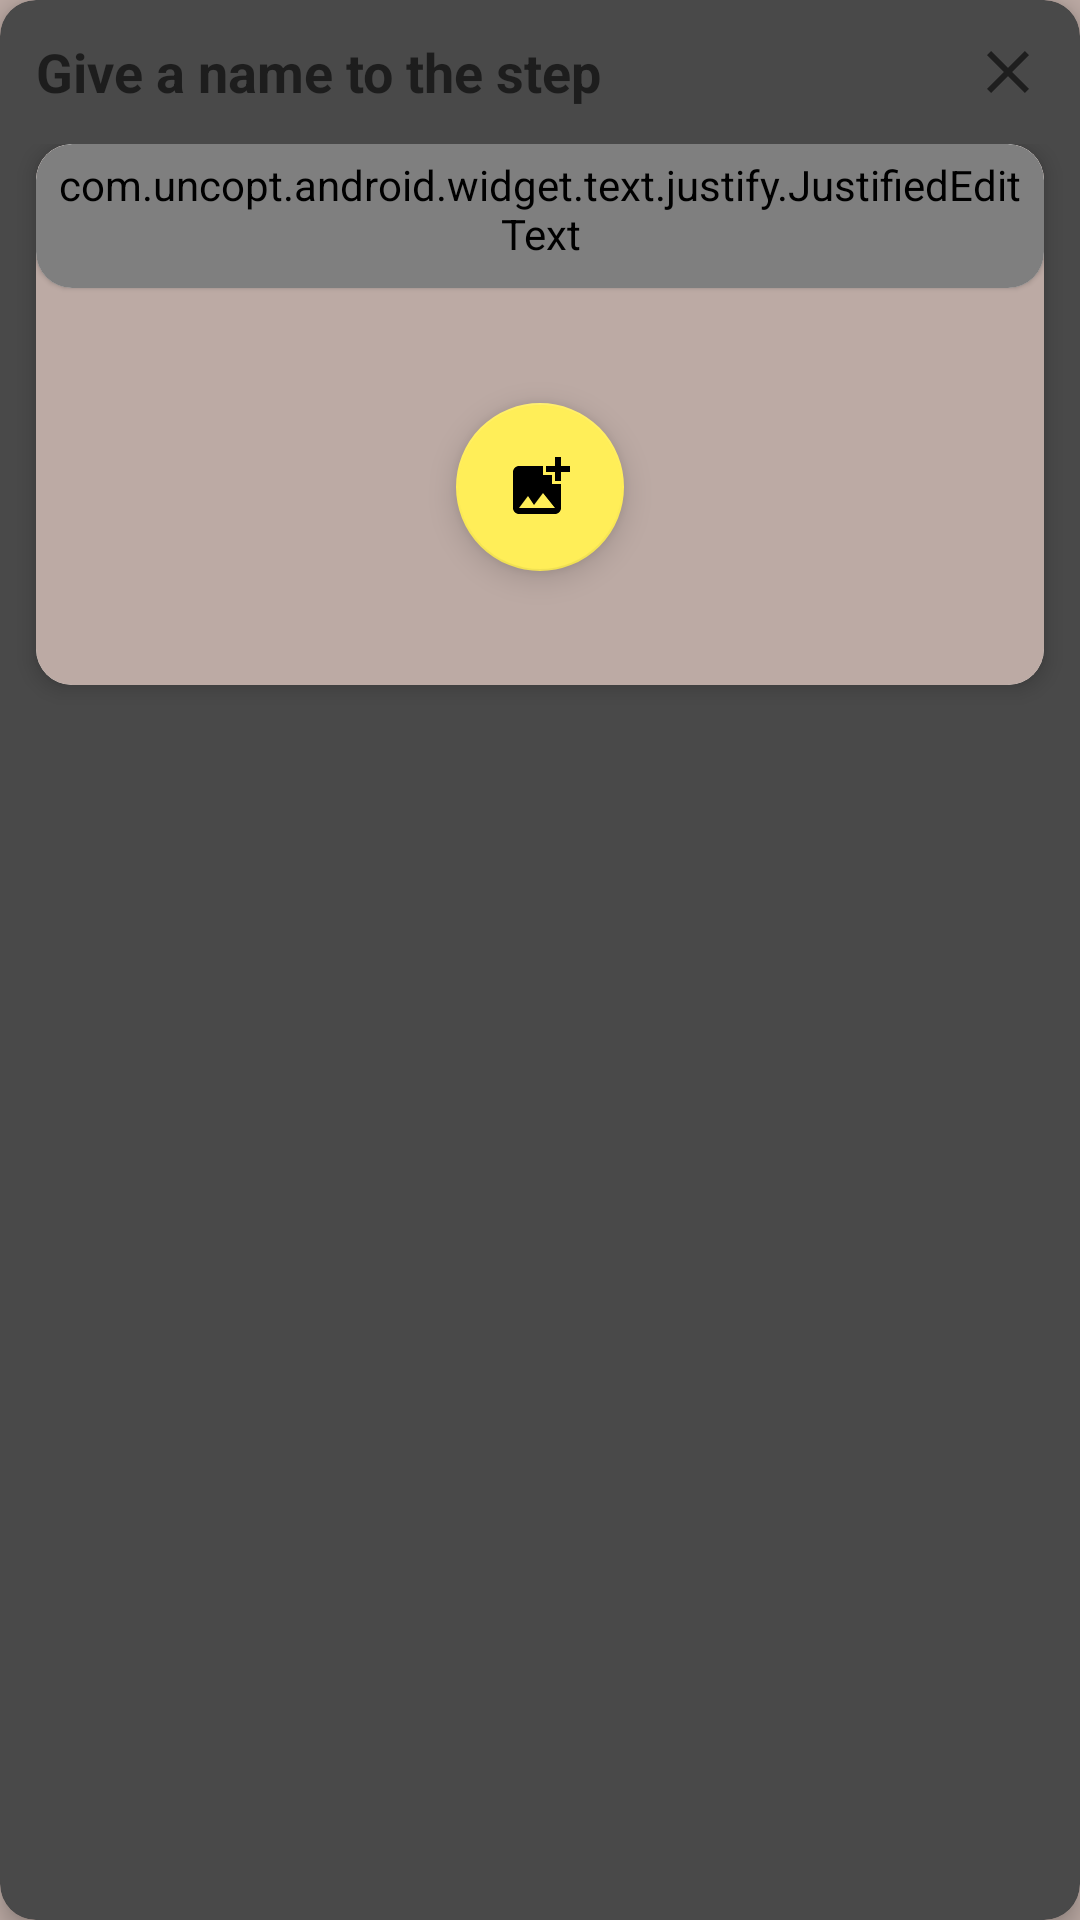

Named icons in this screenshot (1080×1920) and their bounding boxes, Rect(x1, y1, x2, y2):
Add step picture: Rect(456, 403, 624, 571)
